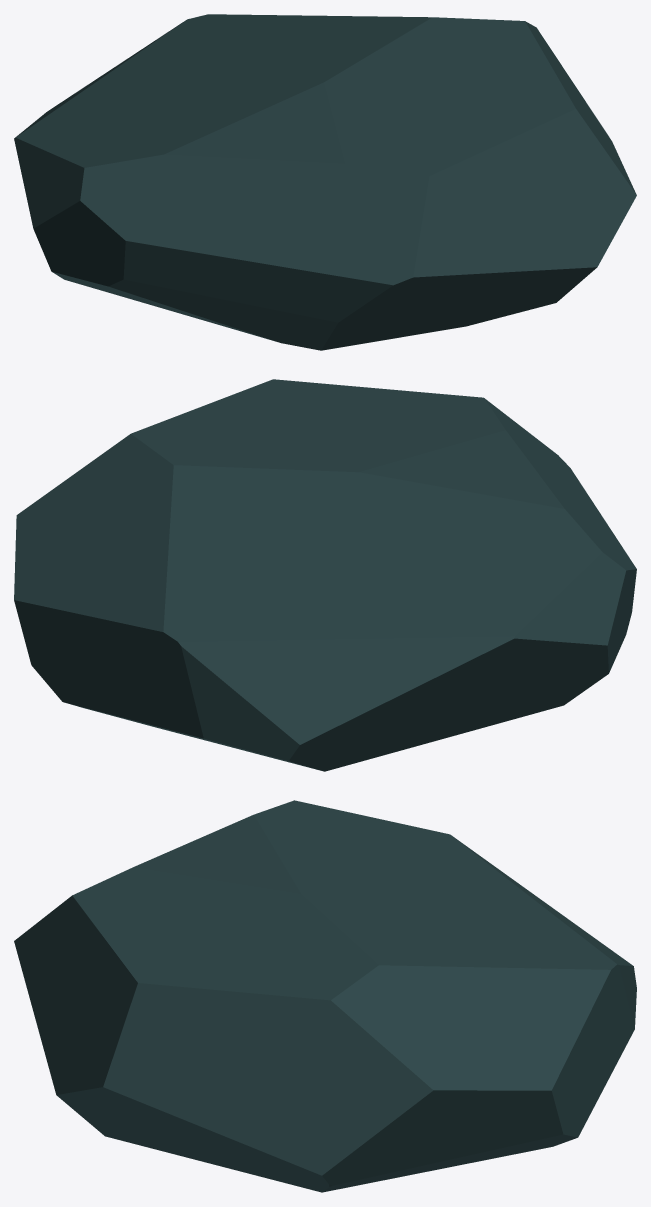
Rendered from lp_Rock_Type2_03_mesh_001_Cube_010.obj.
3 views of the same model, one above another, from view 1: azimuth 30°, elevation 25°; view 2: azimuth 150°, elevation 25°; view 3: azimuth 270°, elevation 25° (orthographic).
Parts seen in each view (by area): view 1: lp_Rock_Type2_03_mesh_001_Cube_010; view 2: lp_Rock_Type2_03_mesh_001_Cube_010; view 3: lp_Rock_Type2_03_mesh_001_Cube_010.
Part boxes in pixels (x1,y1,x2,y2): lp_Rock_Type2_03_mesh_001_Cube_010: (14,14,636,350); lp_Rock_Type2_03_mesh_001_Cube_010: (14,379,636,771); lp_Rock_Type2_03_mesh_001_Cube_010: (14,800,636,1192).
Size of the model in its own units: 3.41 by 1.07 by 3.26.
